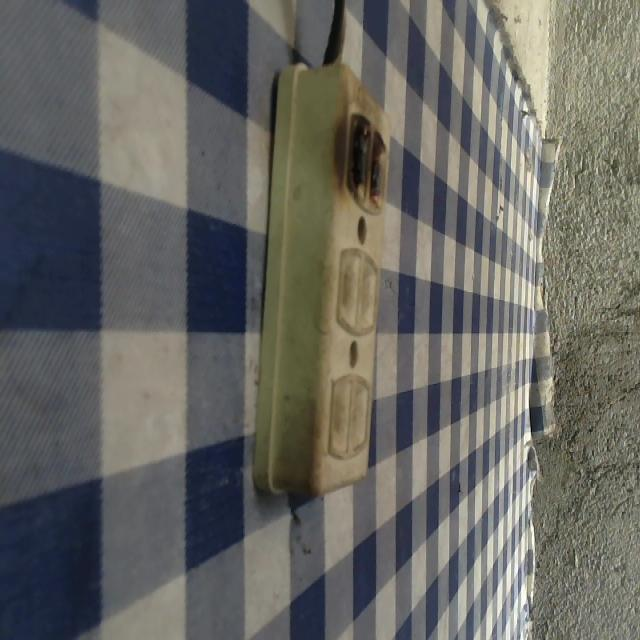-: (324, 93, 403, 223)
